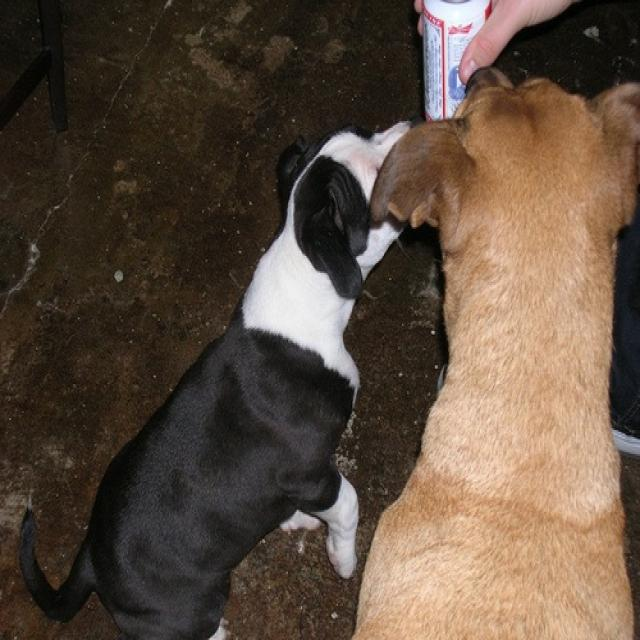dog: (16, 116, 427, 638), (353, 66, 639, 635)
